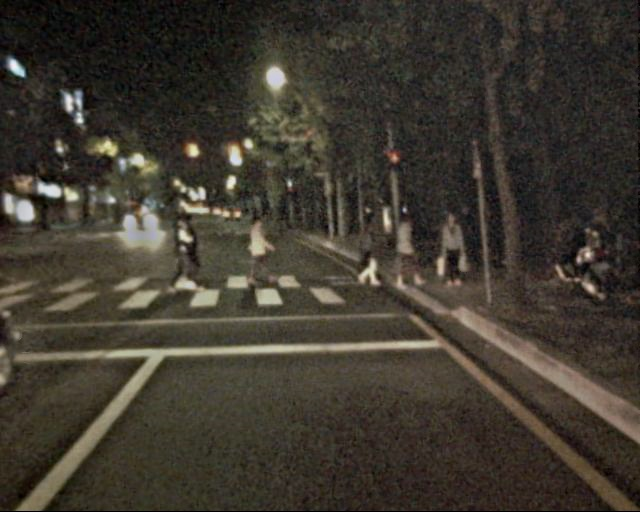person: (163, 206, 199, 294), (349, 215, 381, 292), (389, 215, 421, 292), (241, 216, 272, 291), (436, 215, 466, 288), (453, 203, 482, 273)
